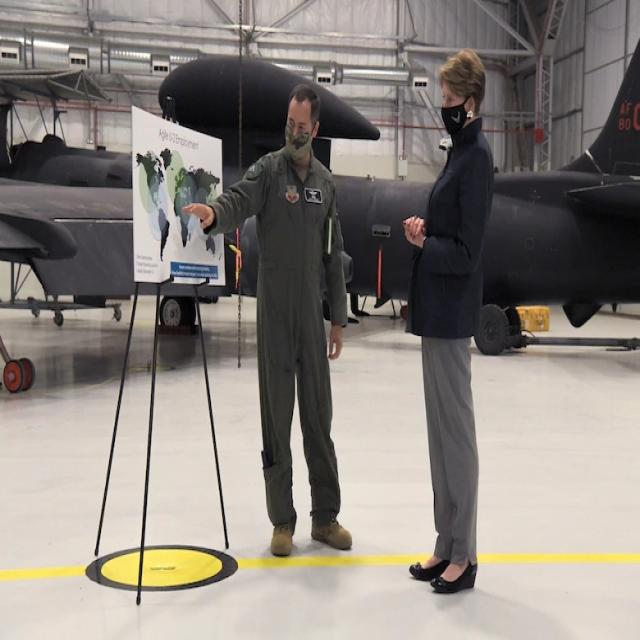MIL_Plane: (1, 37, 640, 394)
